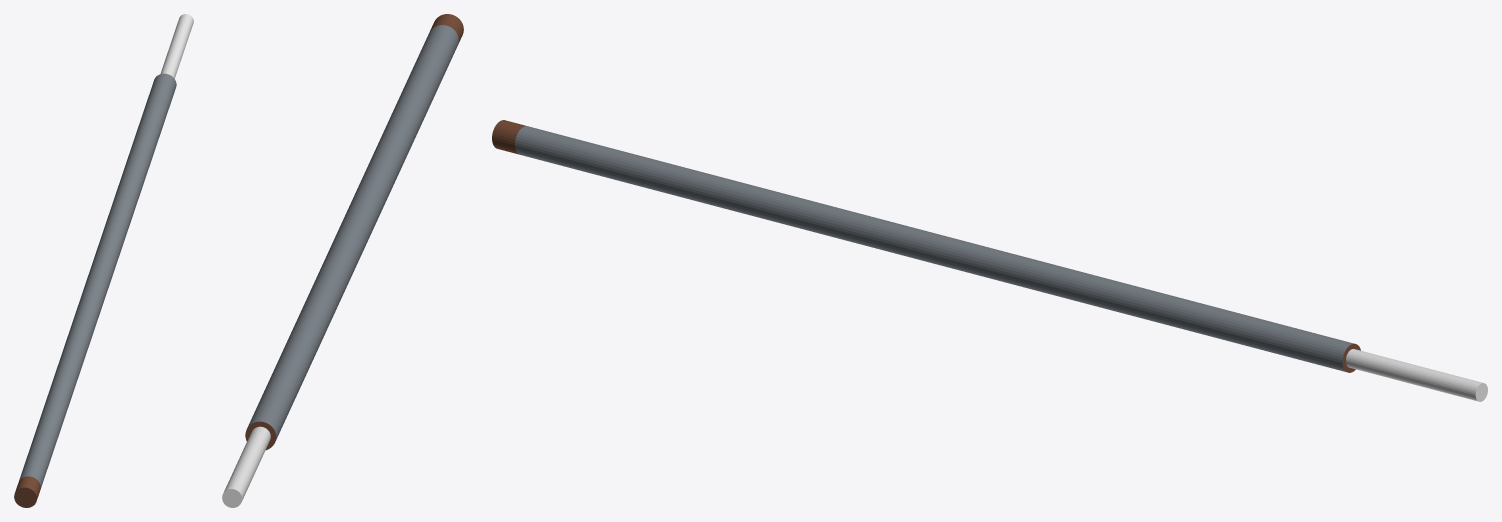
File: electrode_6013.fbx
3 views of the same model, side by side, from view 1: azimuth 30°, elevation 25°; view 2: azimuth 210°, elevation 25°; view 3: azimuth 270°, elevation 25° (orthographic). The views are drawn at different scales.
Parts seen in each view (by area): view 1: Cylinder; view 2: Cylinder; view 3: Cylinder.
Part boxes in pixels (x1,y1,x2,y2): Cylinder: (14,14,193,507); Cylinder: (222,14,463,507); Cylinder: (492,120,1487,401).
Size of the model in its own units: 452 by 63.07 by 548.
